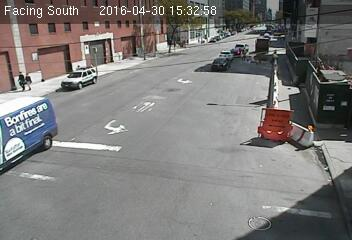neg: (146, 107, 172, 143), (226, 76, 240, 94), (196, 58, 206, 71)
pos: (10, 67, 27, 90), (19, 70, 34, 90)
